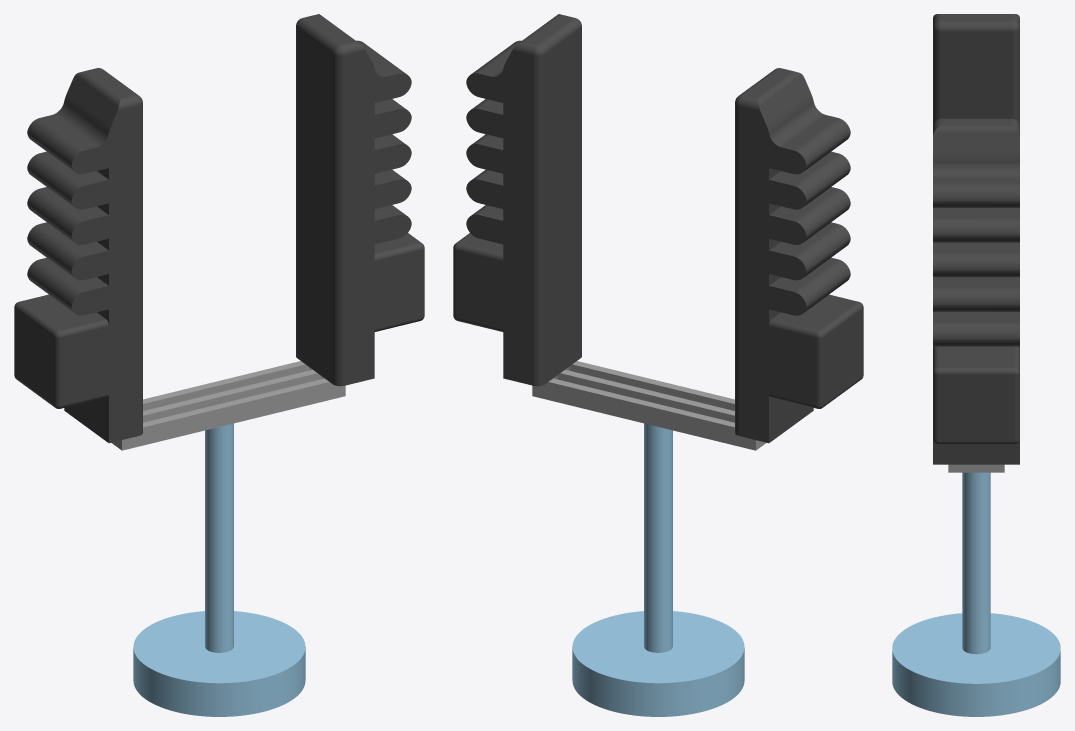
File: Gripper_Rochu.dae
3 views of the same model, side by side, from view 1: azimuth 30°, elevation 25°; view 2: azimuth 150°, elevation 25°; view 3: azimuth 270°, elevation 25° (orthographic). The views are drawn at different scales.
Visible parts, largest first — view 1: 618ba39505db8a589f785339 (×4); view 2: 618ba39505db8a589f785339 (×4); view 3: 618ba39505db8a589f785339 (×4).
Boxes of the visible parts, bbox=[...] form: 618ba39505db8a589f785339 (×4): bbox=[14, 14, 424, 716]; 618ba39505db8a589f785339 (×4): bbox=[453, 14, 863, 716]; 618ba39505db8a589f785339 (×4): bbox=[892, 14, 1060, 716].
Bounding box in the file's own units: 0.149 × 0.06 × 0.2401.
